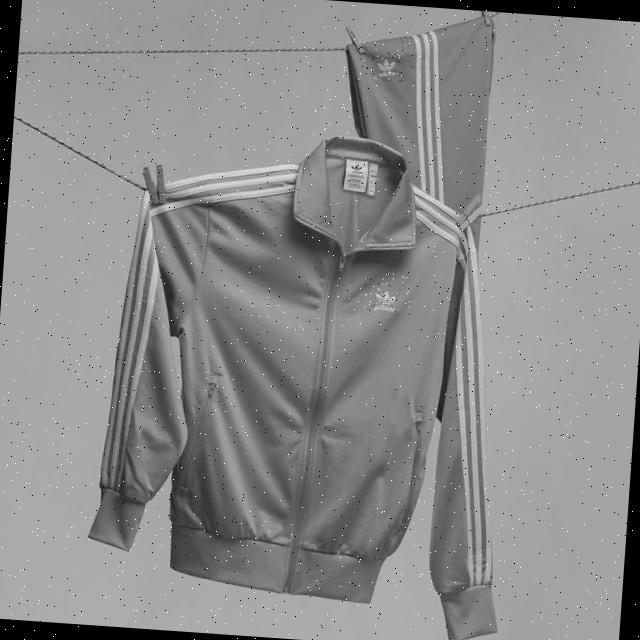Adidas: (357, 270, 412, 314), (356, 40, 404, 84)
